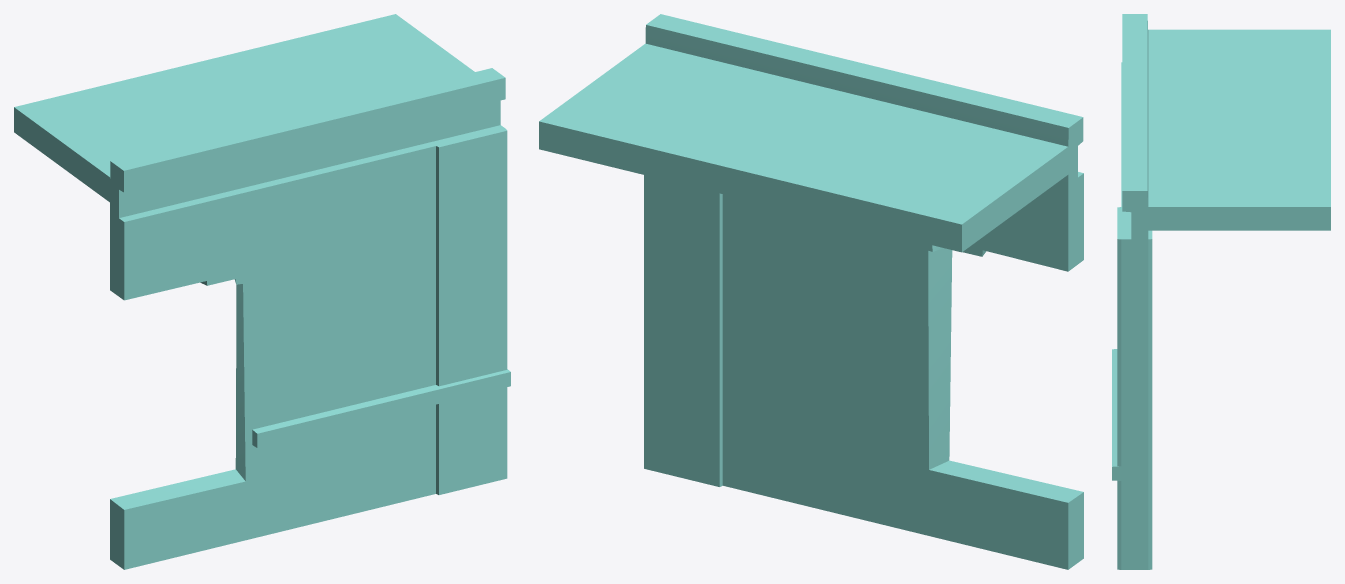
The model's file is DinerWallRuined1_Collision.fbx.
The picture shows the model from 3 angles, left to right: view 1: azimuth 30°, elevation 25°; view 2: azimuth 150°, elevation 25°; view 3: azimuth 270°, elevation 25°; orthographic projection. The views are drawn at different scales.
Visible parts, largest first — view 1: DinerWallRuined1_Collision; view 2: DinerWallRuined1_Collision; view 3: DinerWallRuined1_Collision.
Boxes of the visible parts, <box> form: DinerWallRuined1_Collision: <box>14,14,510,569</box>; DinerWallRuined1_Collision: <box>539,14,1083,569</box>; DinerWallRuined1_Collision: <box>1112,14,1330,569</box>.
Size of the model in its own units: 3.52 by 3.51 by 1.84.
